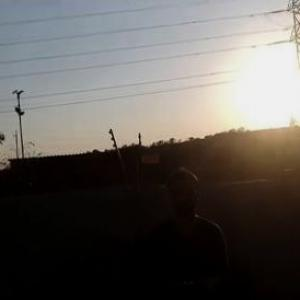follow: (142, 163, 238, 299)
